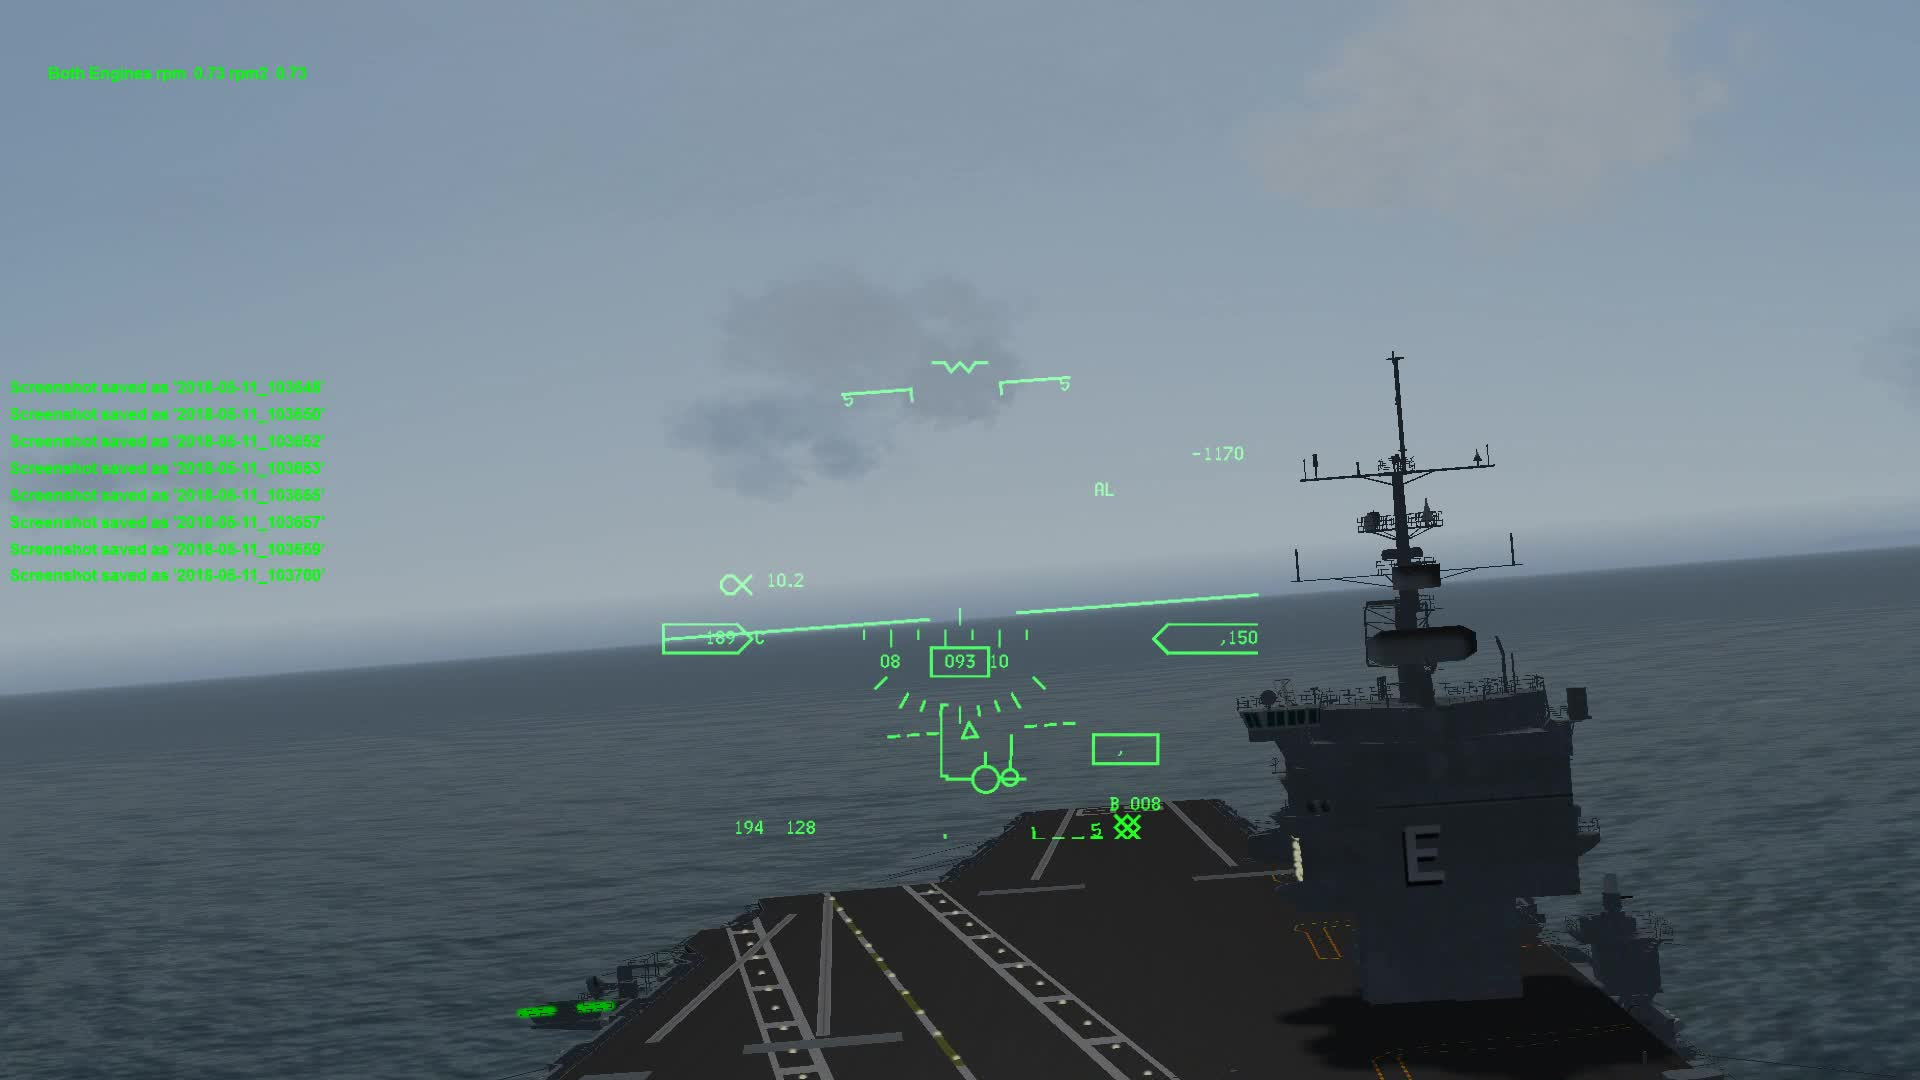speed vector: (945, 756, 1042, 796)
